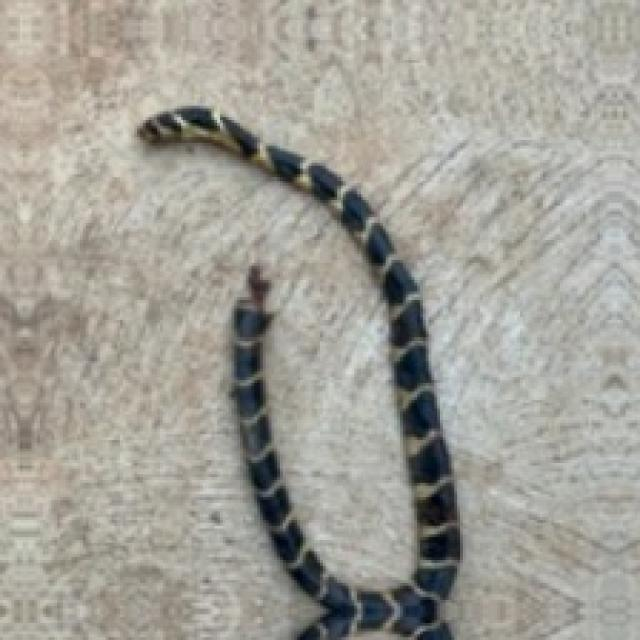king cobra: (137, 106, 457, 637)
